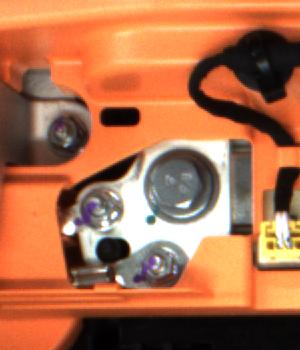nut_b: (143, 142, 221, 222)
screw_s: (77, 189, 119, 232), (43, 115, 82, 157), (142, 240, 179, 283)
